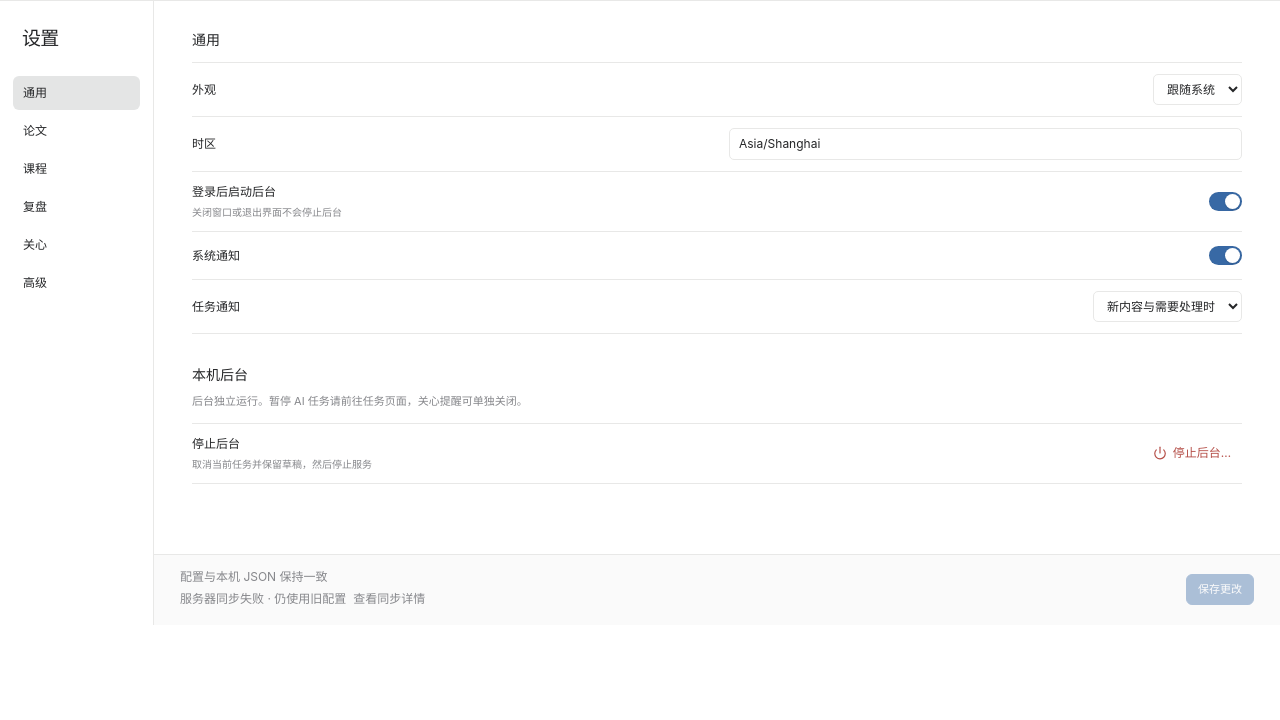
Test: configuration server confirmation › shows failed synchronization and the retained server config without claiming local save failed
Replace the text in the field labelled "时区" with "Europe/London". click: point(986, 144)
box: [729,128,1242,160]
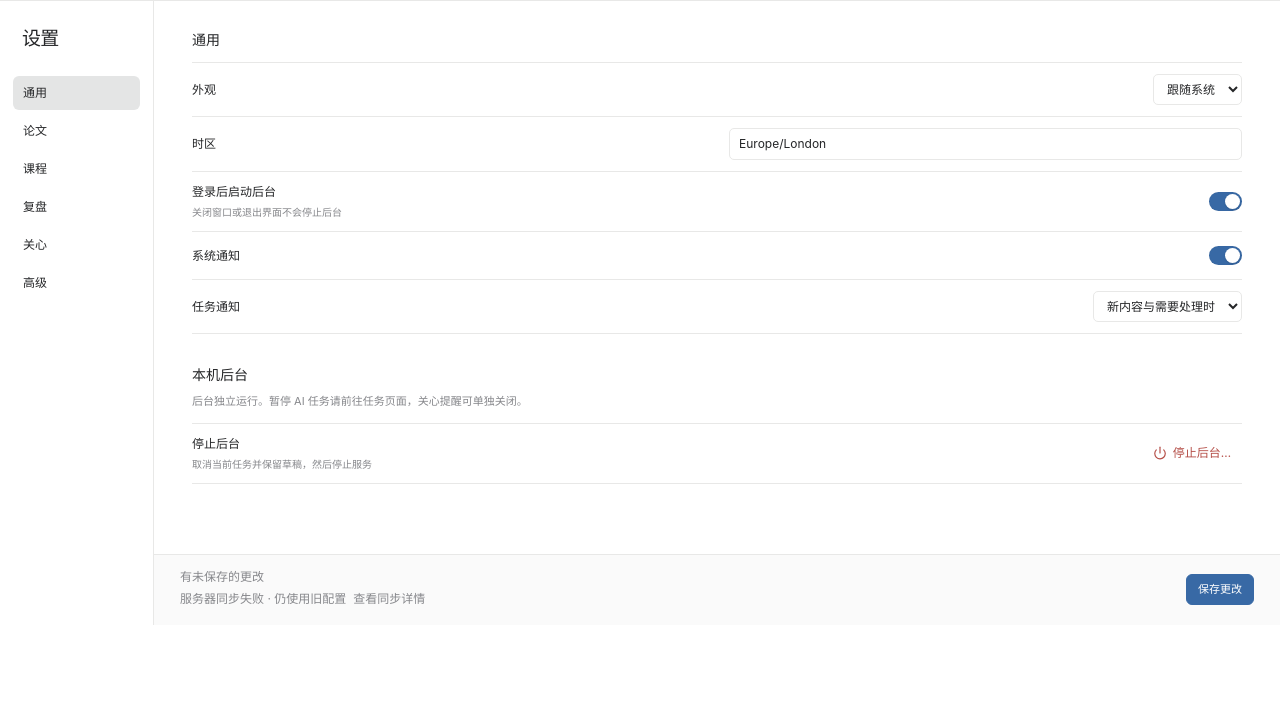
Click the button "保存更改". click: point(1220, 590)
box: [1186,574,1254,605]
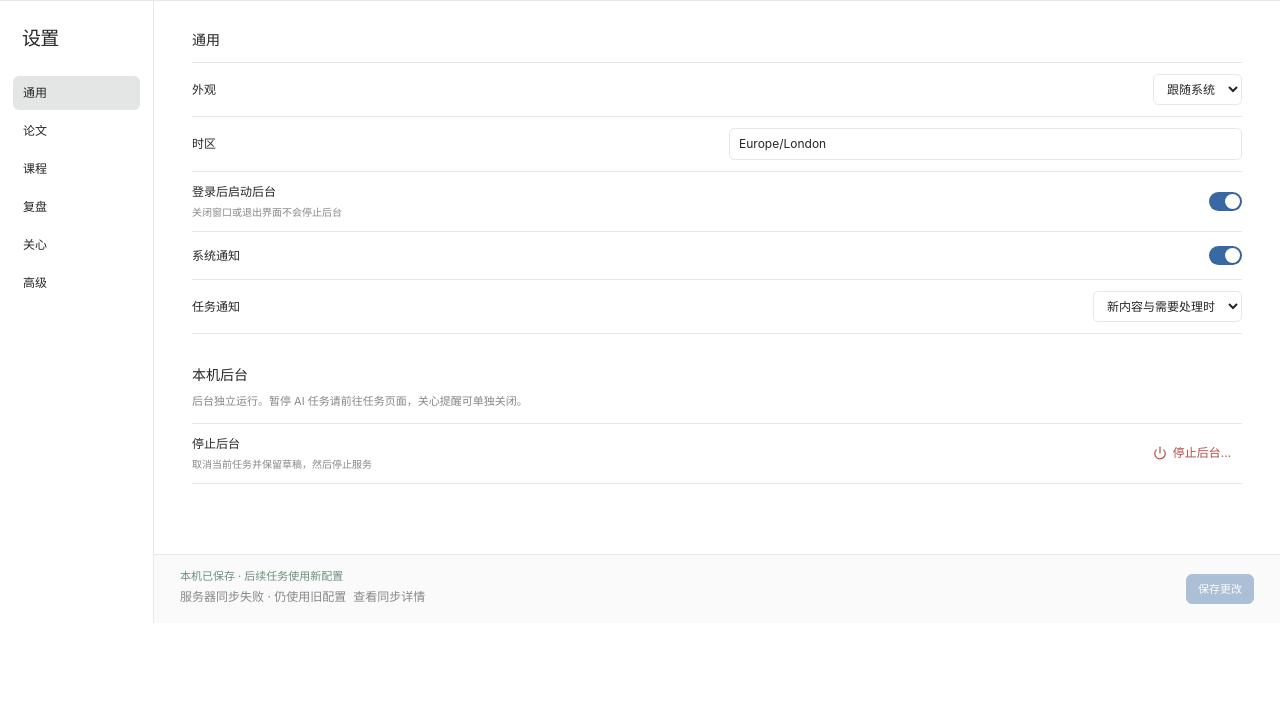
Expected: the text "服务器同步失败 · 仍使用旧配置" is shown, [180,589,346,604]
Result: the text "本机已保存 · 后续任务使用新配置" is shown at [180,569,343,583]
